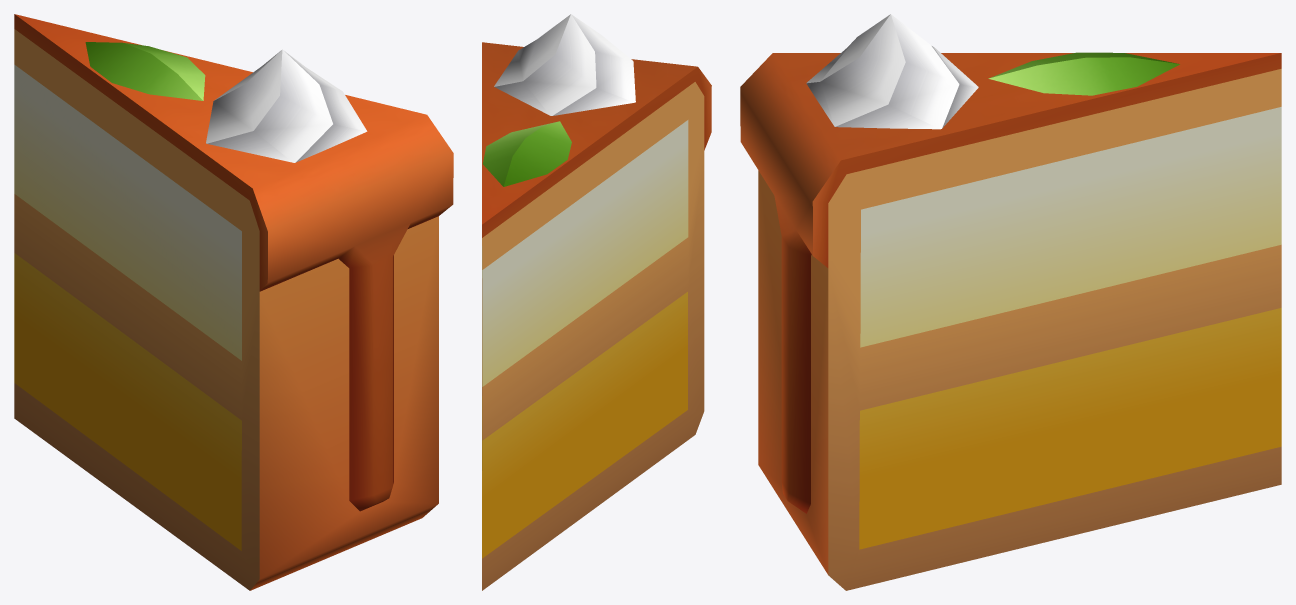
The model's file is m_OrangeCake01_Slice03.fbx.
The picture shows the model from 3 angles, left to right: view 1: azimuth 30°, elevation 25°; view 2: azimuth 150°, elevation 25°; view 3: azimuth 270°, elevation 25°; orthographic projection. The views are drawn at different scales.
Visible parts, largest first — view 1: m_OrangeCake01_Slice03; view 2: m_OrangeCake01_Slice03; view 3: m_OrangeCake01_Slice03.
Boxes of the visible parts, x1,y1,x2,y2 form: m_OrangeCake01_Slice03: (14, 14, 453, 590); m_OrangeCake01_Slice03: (482, 14, 711, 590); m_OrangeCake01_Slice03: (740, 14, 1281, 590).
Size of the model in its own units: 6.52 by 13.68 by 13.04.
